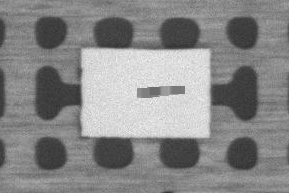DIE_INK: (202, 56, 279, 67)
